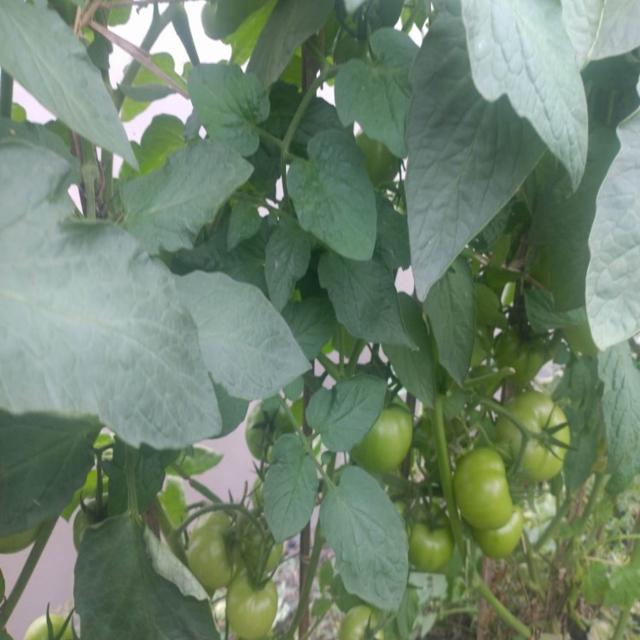tomato: (510, 398, 570, 484), (458, 453, 515, 531), (190, 509, 239, 587), (227, 573, 279, 637), (412, 506, 459, 572), (363, 407, 414, 467), (250, 402, 289, 457), (337, 604, 384, 640), (25, 611, 80, 640), (483, 519, 522, 554), (78, 495, 107, 522)
